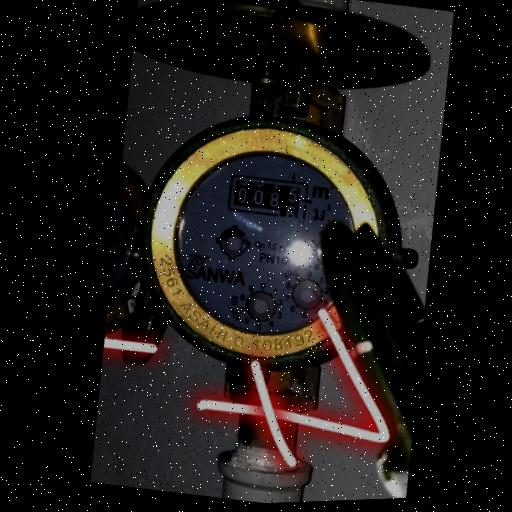0: (246, 181, 268, 208), (231, 179, 252, 206)
5: (275, 184, 301, 219)
8: (263, 182, 284, 211)
border_water_meter_number: (223, 170, 310, 223)
